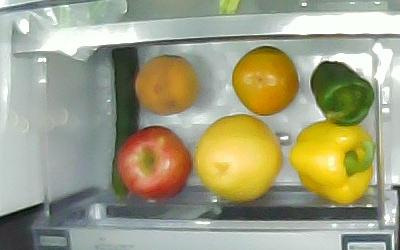apple: (117, 126, 193, 202)
cucumber: (111, 48, 140, 202)
grapefruit: (195, 115, 283, 202)
paprika: (289, 121, 376, 204), (310, 61, 374, 126)
peach: (134, 55, 199, 115)
persimmon: (232, 46, 299, 116)
